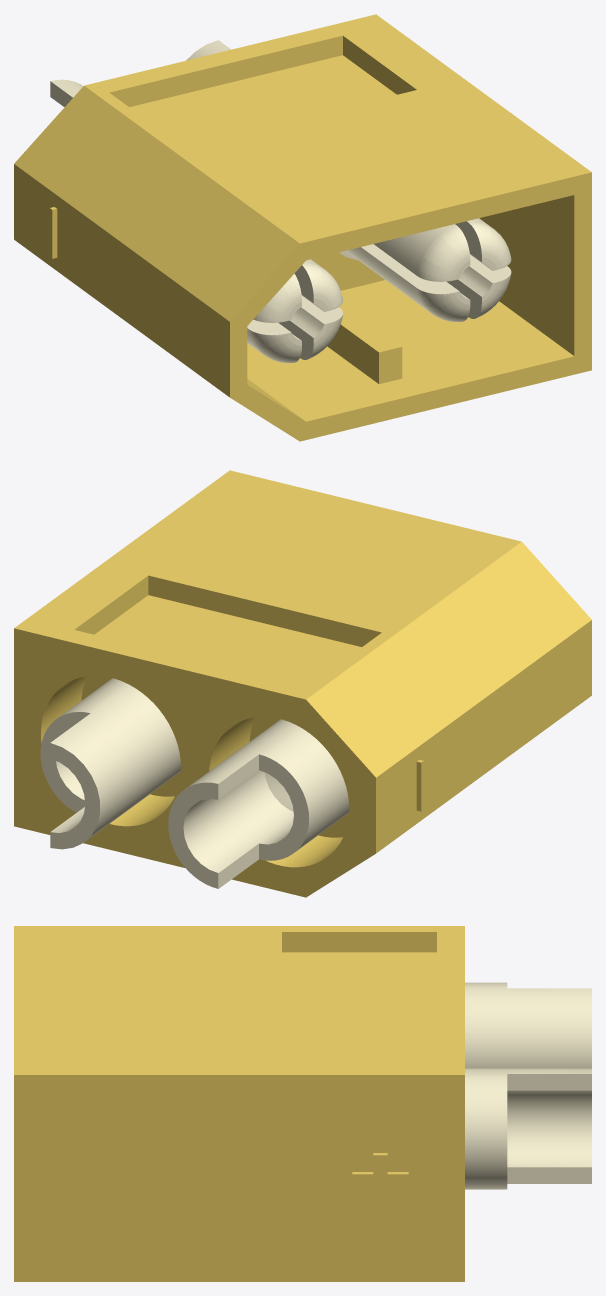
File: AMASS_XT60-M_1x02_P7.2mm_Vertical.glb
3 views of the same model, one above another, from view 1: azimuth 30°, elevation 25°; view 2: azimuth 150°, elevation 25°; view 3: azimuth 270°, elevation 25° (orthographic). The views are drawn at different scales.
Visible parts, largest first — view 1: Shape_IndexedFaceSet.086, Shape_IndexedFaceSet.085, Shape_IndexedFaceSet.078, Shape_IndexedFaceSet.088, Shape_IndexedFaceSet.084, Shape_IndexedFaceSet.044, Shape_IndexedFaceSet.079, Shape_IndexedFaceSet.040, Shape_IndexedFaceSet.003, Shape_IndexedFaceSet, Shape_IndexedFaceSet.067, Shape_IndexedFaceSet.070 (+12 smaller); view 2: Shape_IndexedFaceSet.086, Shape_IndexedFaceSet.089, Shape_IndexedFaceSet.085, Shape_IndexedFaceSet.084, Shape_IndexedFaceSet.044, Shape_IndexedFaceSet.027, Shape_IndexedFaceSet.116, Shape_IndexedFaceSet.118, Shape_IndexedFaceSet.042, Shape_IndexedFaceSet.065, Shape_IndexedFaceSet.119, Shape_IndexedFaceSet.063 (+9 smaller); view 3: Shape_IndexedFaceSet.087, Shape_IndexedFaceSet.086, Shape_IndexedFaceSet.044, Shape_IndexedFaceSet.118, Shape_IndexedFaceSet.029, Shape_IndexedFaceSet.027, Shape_IndexedFaceSet.041, Shape_IndexedFaceSet.030, Shape_IndexedFaceSet.032, Shape_IndexedFaceSet.062.
Boxes of the visible parts, bbox=[...] form: Shape_IndexedFaceSet.086: bbox=[84, 14, 591, 243]; Shape_IndexedFaceSet.085: bbox=[14, 86, 299, 321]; Shape_IndexedFaceSet.078: bbox=[247, 280, 573, 421]; Shape_IndexedFaceSet.088: bbox=[230, 172, 591, 441]; Shape_IndexedFaceSet.084: bbox=[14, 164, 229, 397]; Shape_IndexedFaceSet.044: bbox=[130, 55, 396, 146]; Shape_IndexedFaceSet.079: bbox=[479, 195, 574, 355]; Shape_IndexedFaceSet.040: bbox=[109, 35, 342, 107]; Shape_IndexedFaceSet.003: bbox=[417, 225, 470, 281]; Shape_IndexedFaceSet: bbox=[374, 224, 456, 275]; Shape_IndexedFaceSet.067: bbox=[327, 324, 378, 383]; Shape_IndexedFaceSet.070: bbox=[311, 252, 384, 290]; Shape_IndexedFaceSet.086: bbox=[14, 470, 521, 699]; Shape_IndexedFaceSet.089: bbox=[14, 628, 375, 897]; Shape_IndexedFaceSet.085: bbox=[306, 542, 591, 777]; Shape_IndexedFaceSet.084: bbox=[376, 620, 591, 853]; Shape_IndexedFaceSet.044: bbox=[94, 595, 361, 686]; Shape_IndexedFaceSet.027: bbox=[50, 678, 180, 842]; Shape_IndexedFaceSet.116: bbox=[183, 770, 293, 872]; Shape_IndexedFaceSet.118: bbox=[186, 719, 349, 851]; Shape_IndexedFaceSet.042: bbox=[148, 575, 381, 646]; Shape_IndexedFaceSet.065: bbox=[209, 717, 342, 867]; Shape_IndexedFaceSet.119: bbox=[168, 782, 218, 888]; Shape_IndexedFaceSet.063: bbox=[41, 676, 174, 826]; Shape_IndexedFaceSet.087: bbox=[14, 1075, 464, 1281]; Shape_IndexedFaceSet.086: bbox=[14, 926, 464, 1074]; Shape_IndexedFaceSet.044: bbox=[282, 952, 436, 1050]; Shape_IndexedFaceSet.118: bbox=[465, 982, 591, 1068]; Shape_IndexedFaceSet.029: bbox=[507, 1090, 591, 1167]; Shape_IndexedFaceSet.027: bbox=[465, 1068, 591, 1189]; Shape_IndexedFaceSet.041: bbox=[282, 932, 436, 952]; Shape_IndexedFaceSet.030: bbox=[507, 1074, 591, 1090]; Shape_IndexedFaceSet.032: bbox=[507, 1167, 591, 1183]; Shape_IndexedFaceSet.062: bbox=[352, 1155, 408, 1206].
Bounding box in the file's own units: 6.26 × 3.19 × 8.07.
